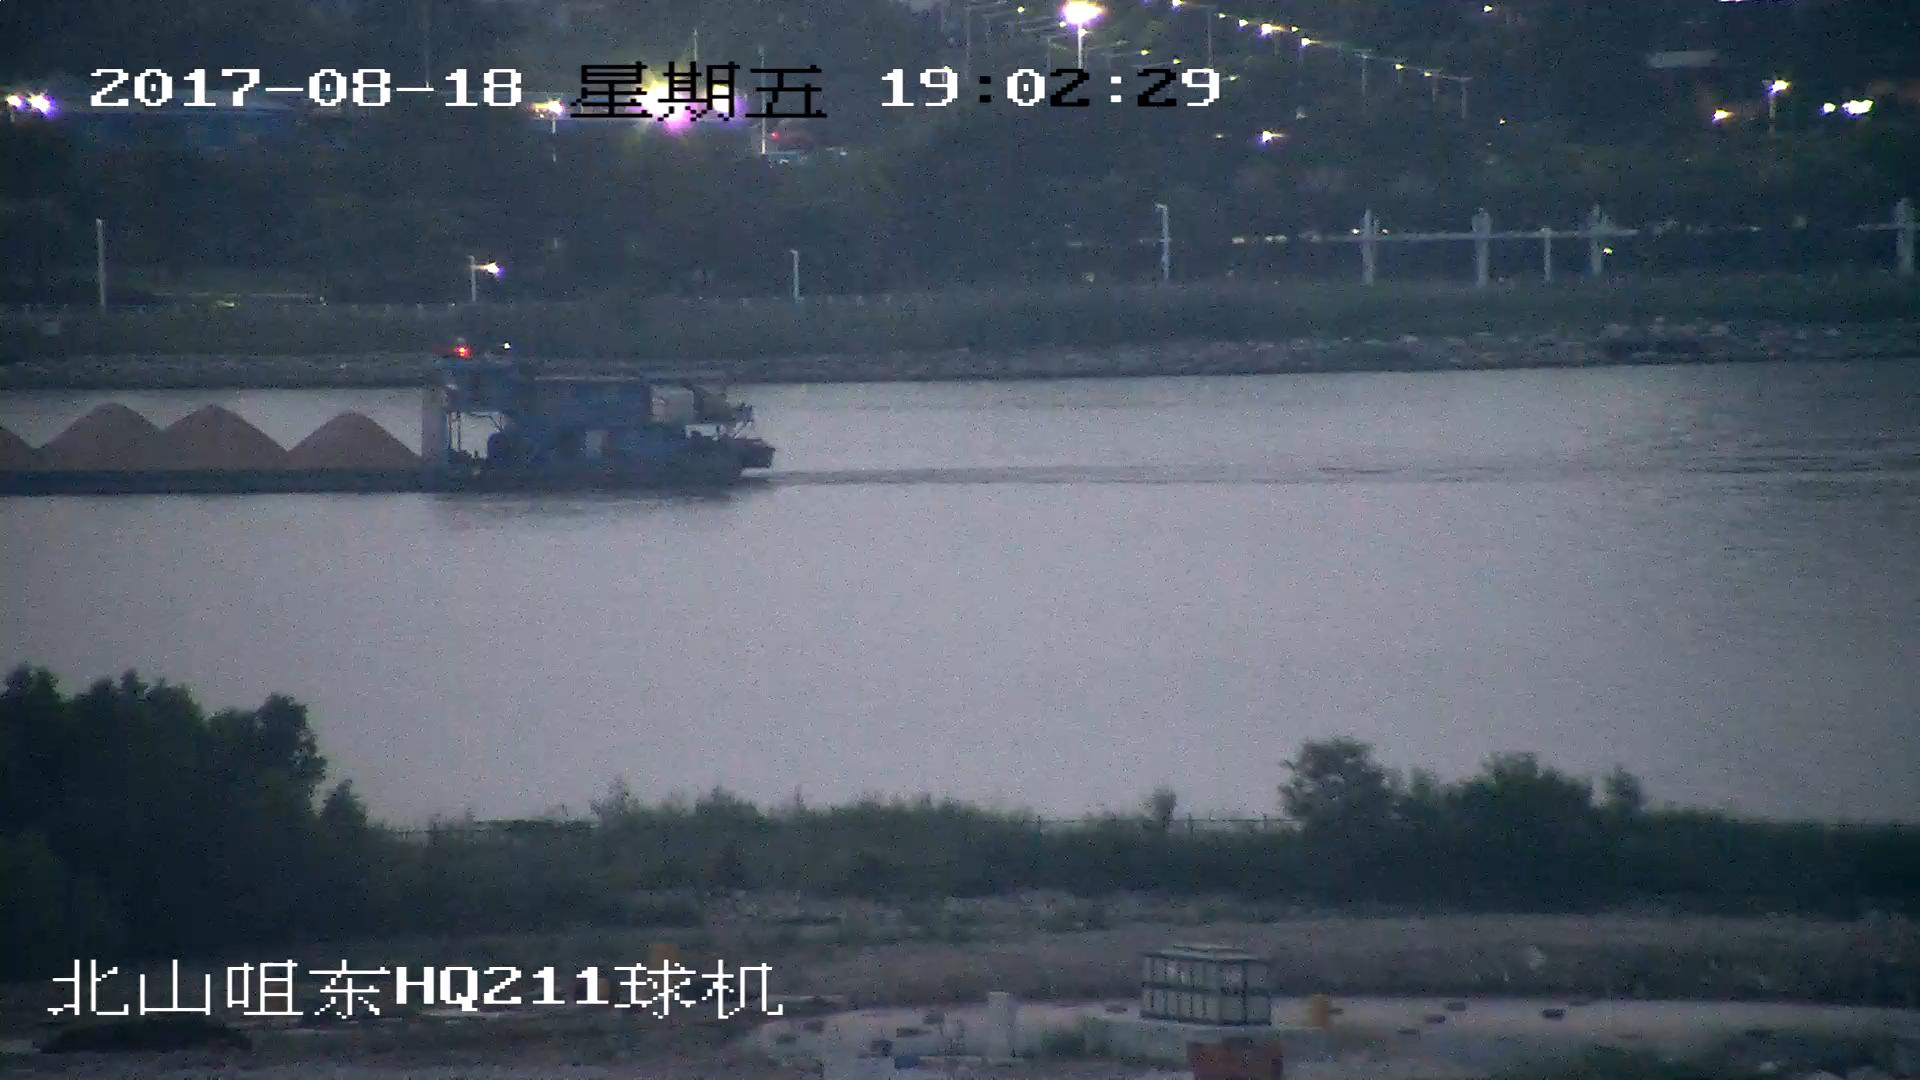ore carrier: (1, 337, 777, 494)
